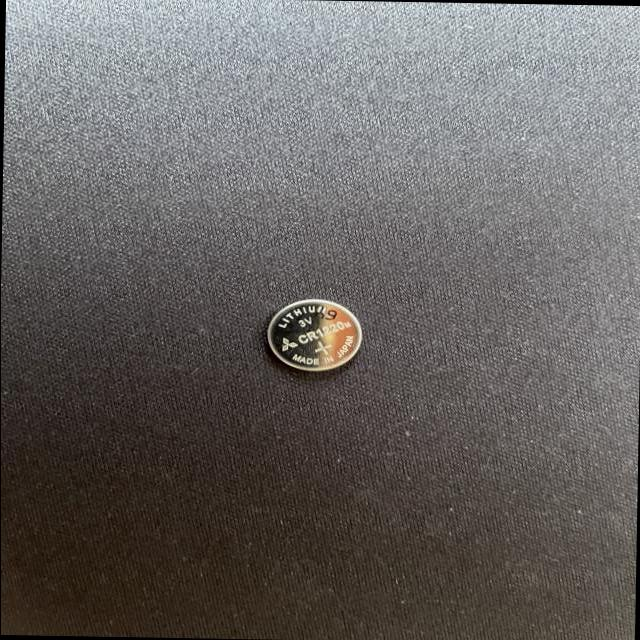COIN: (264, 292, 367, 376)
